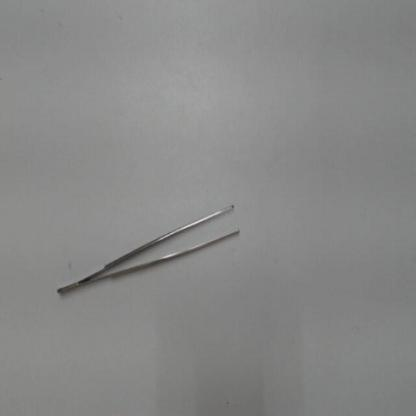Gillies Toothed Dissector: (53, 193, 246, 302)
